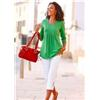fuseaux: (41, 55, 60, 90)
maglia: (39, 18, 66, 59)
